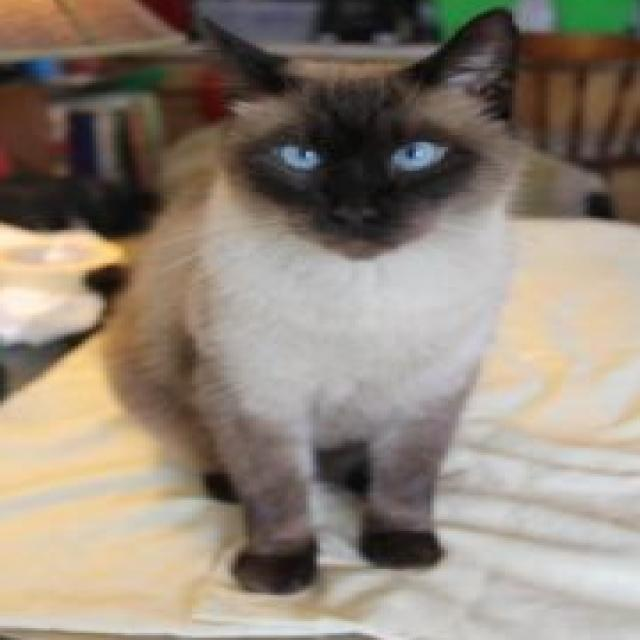Siamese: (107, 2, 531, 598)
